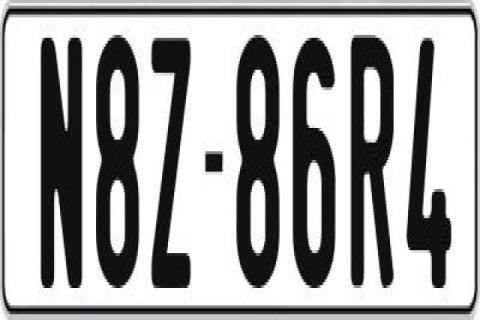0: (232, 29, 280, 299), (96, 29, 146, 285), (406, 29, 452, 297), (290, 38, 338, 291)
N: (38, 32, 82, 285)
R: (350, 29, 396, 282)
Z: (147, 29, 188, 282)
